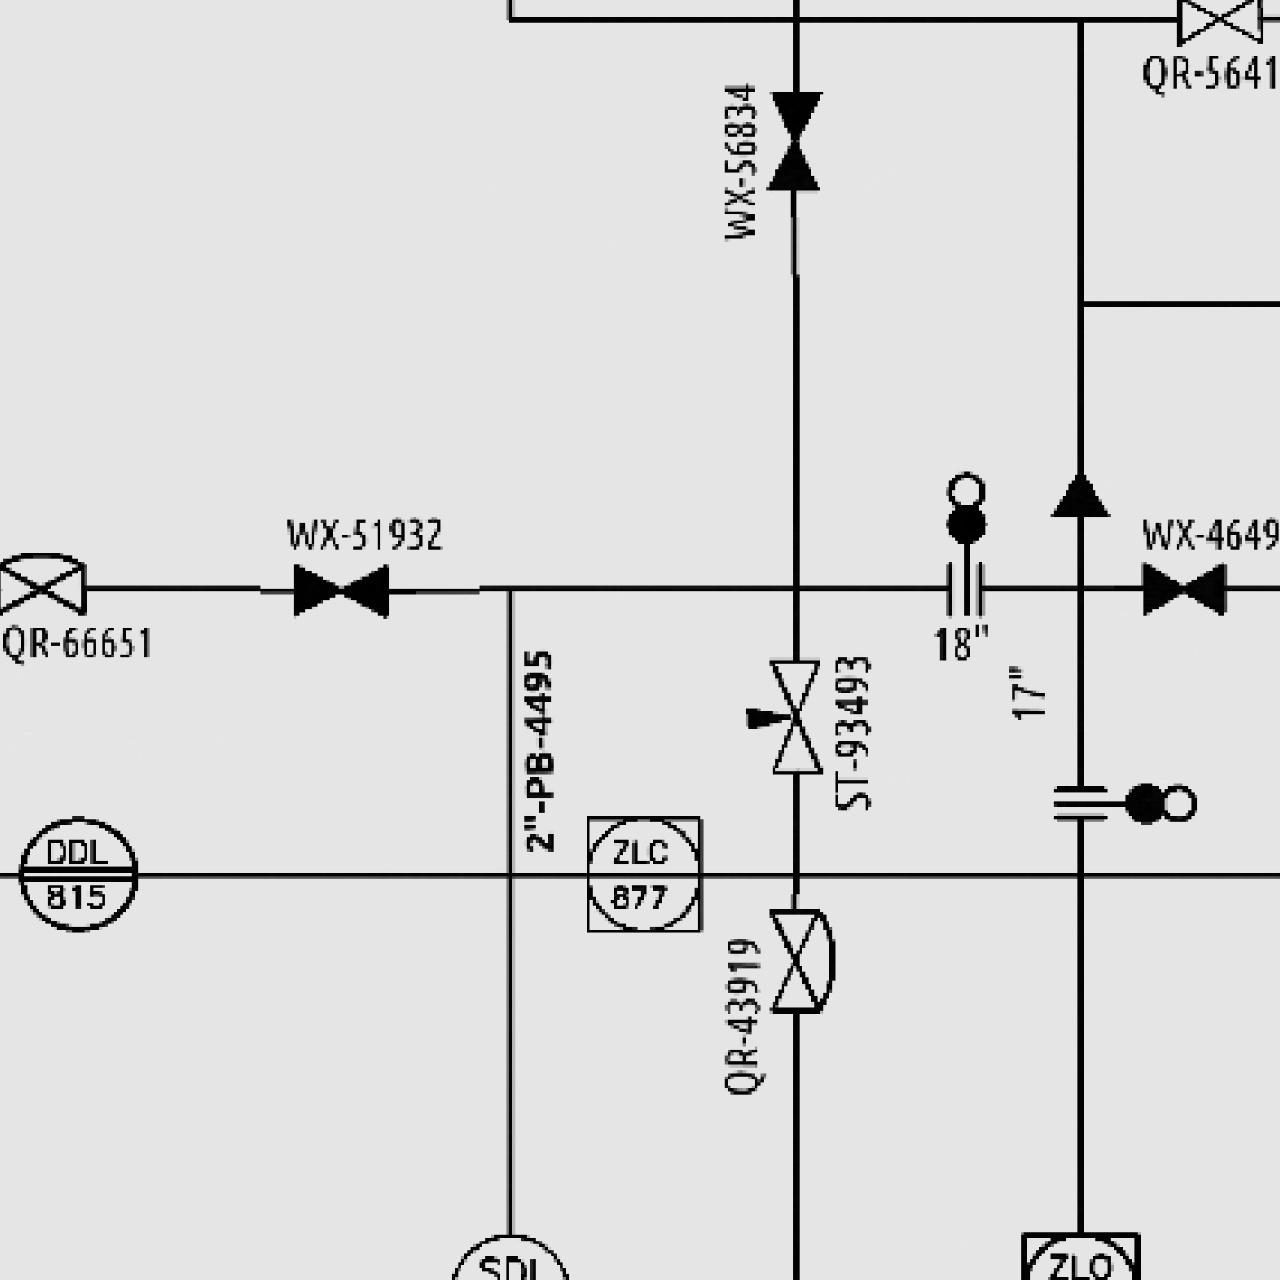Control-Panel: (14, 810, 141, 937)
